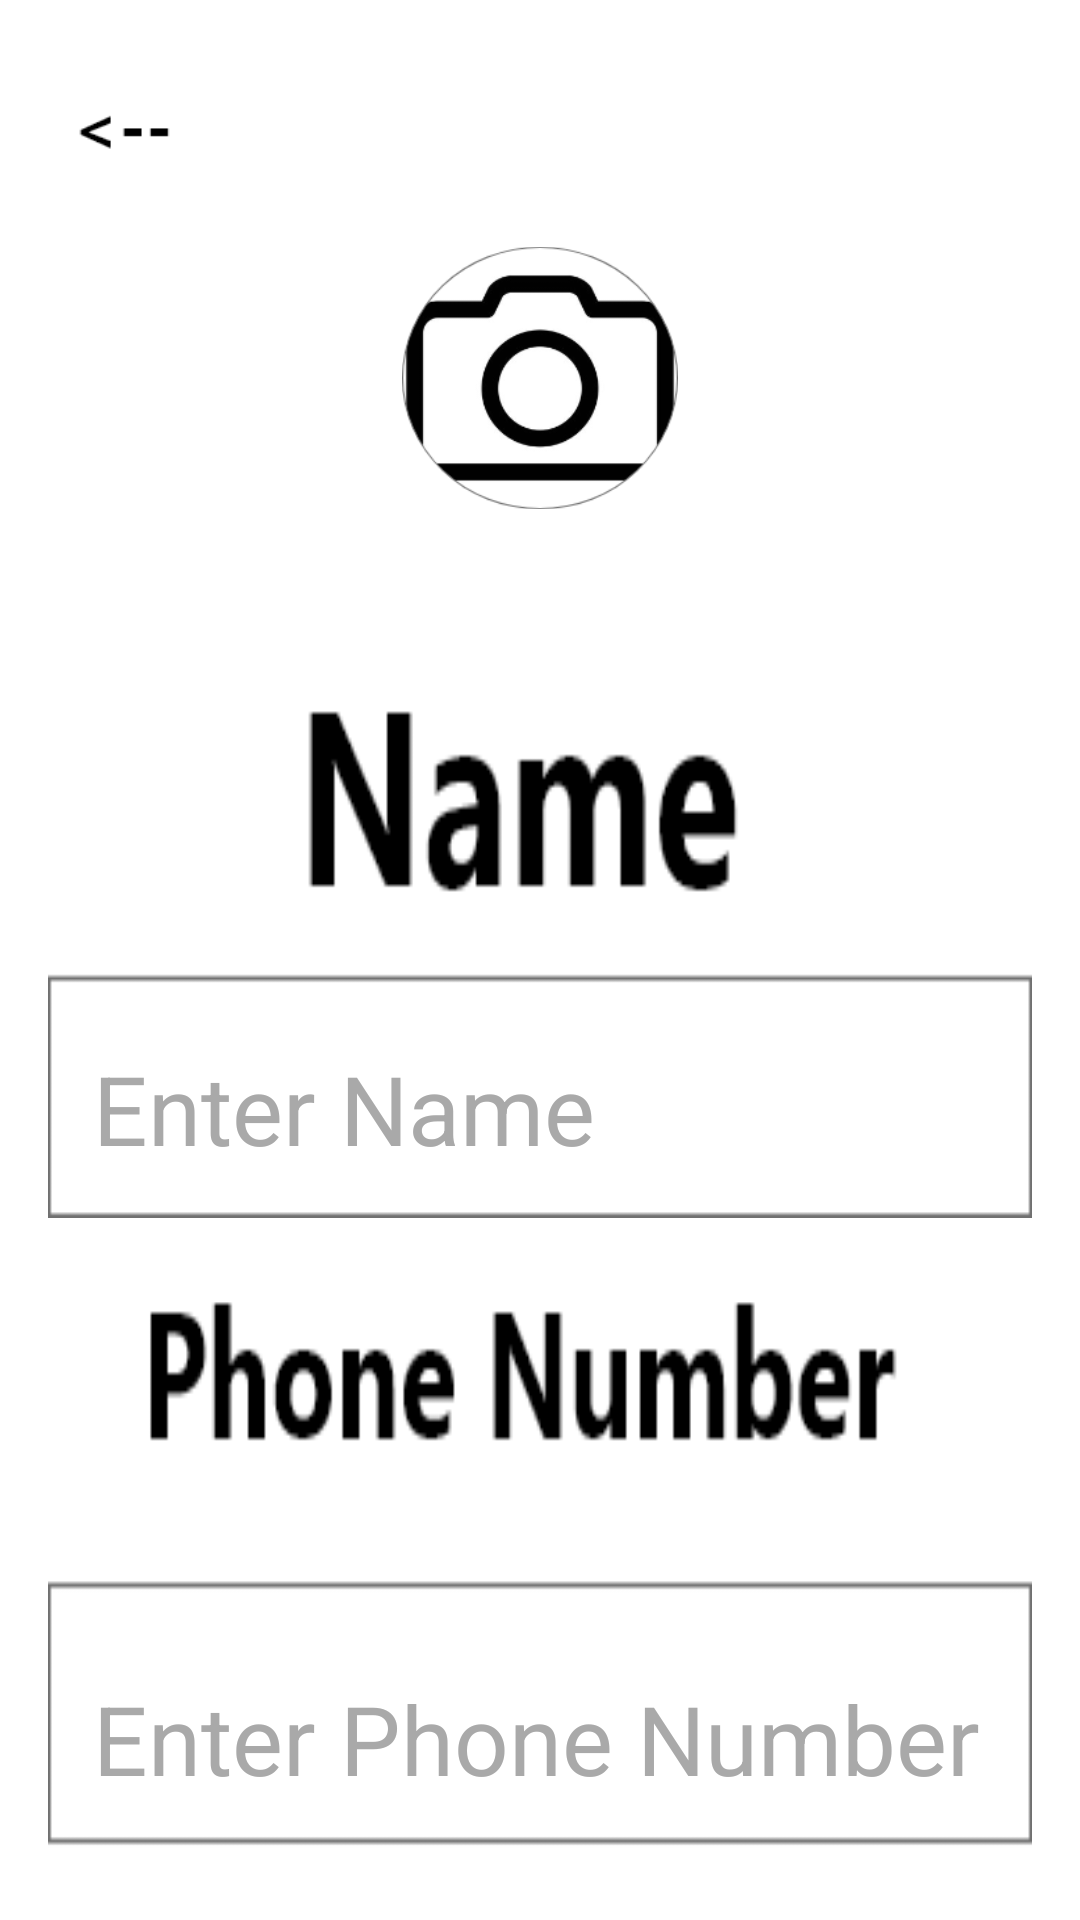

Locate icon controls on the screen. Image size 1080x1920, boxes as (x1, y1, x2, y2).
Back Button: (79, 116, 169, 149)
